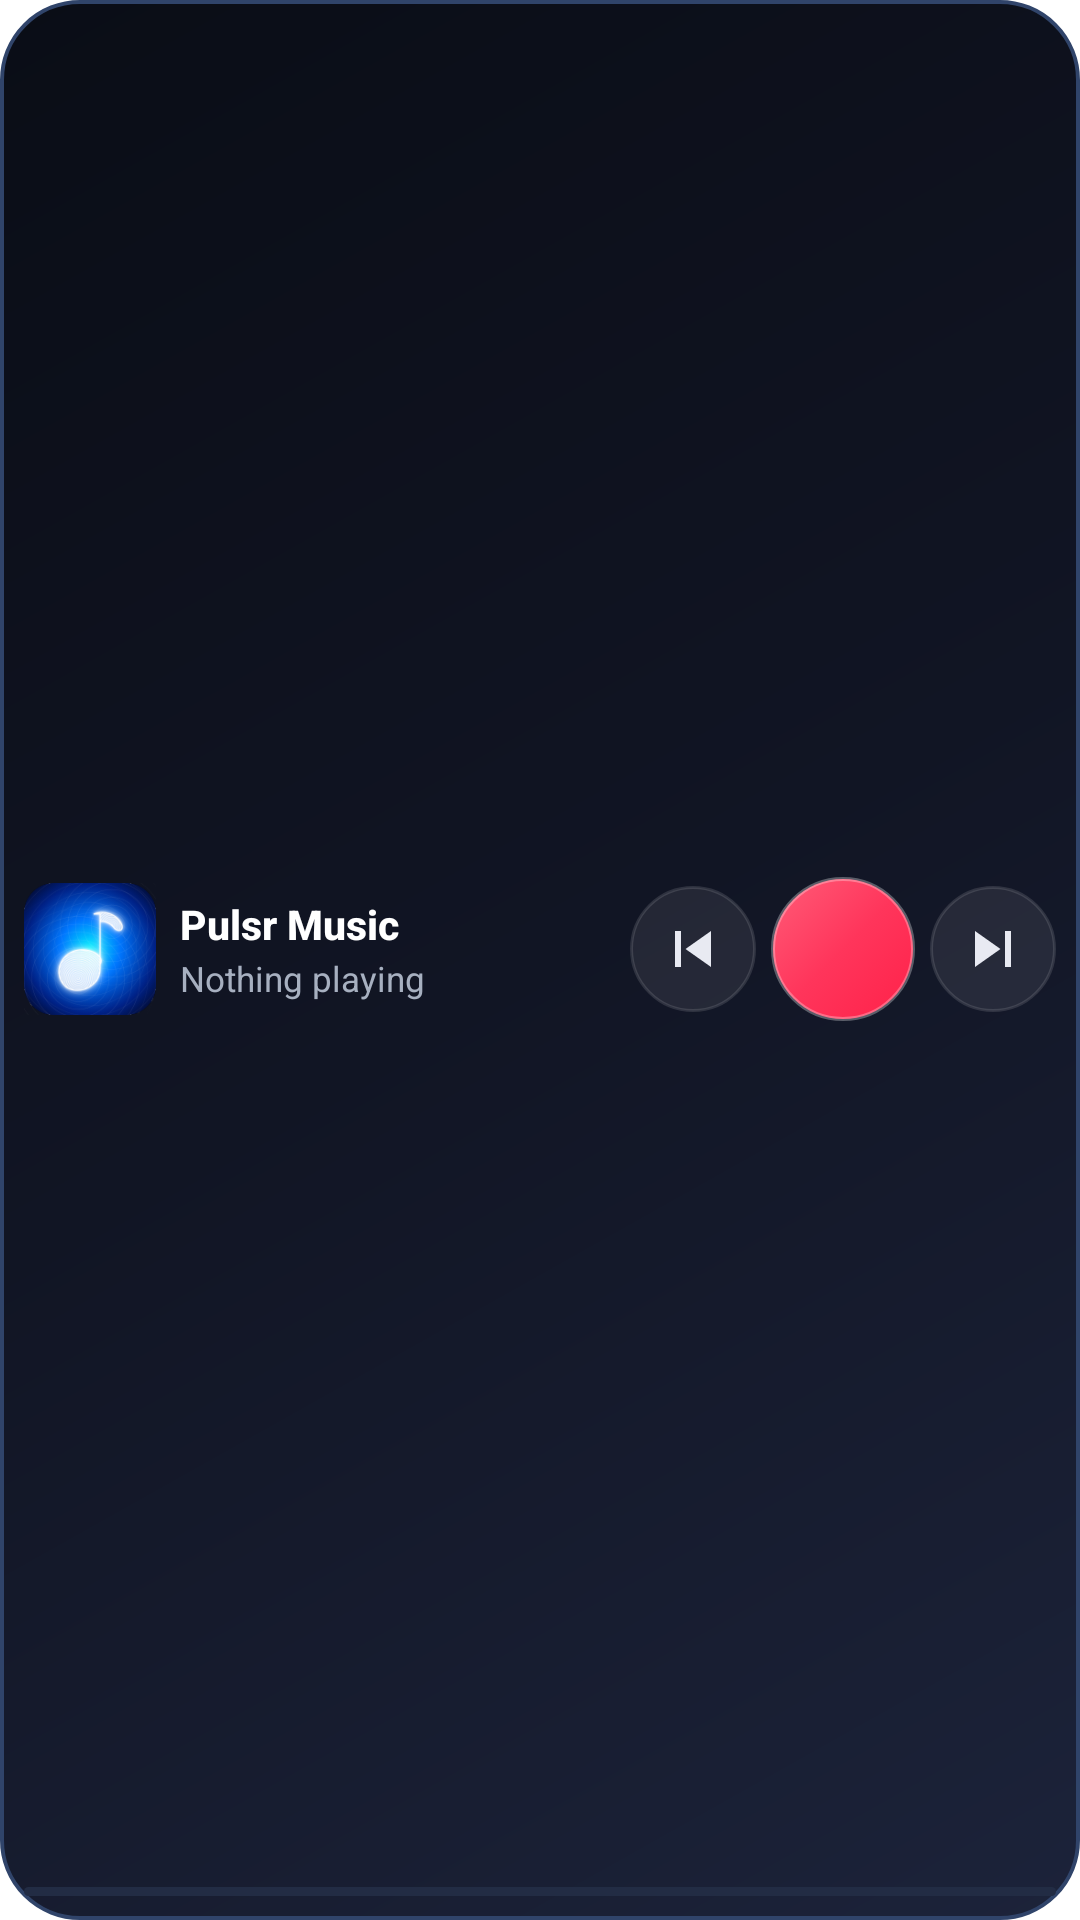

Where icons sit on this 1080*1920 app screen, as [x1, y1, x2, y2]:
Next: [930, 886, 1056, 1012]
Previous: [630, 886, 756, 1012]
